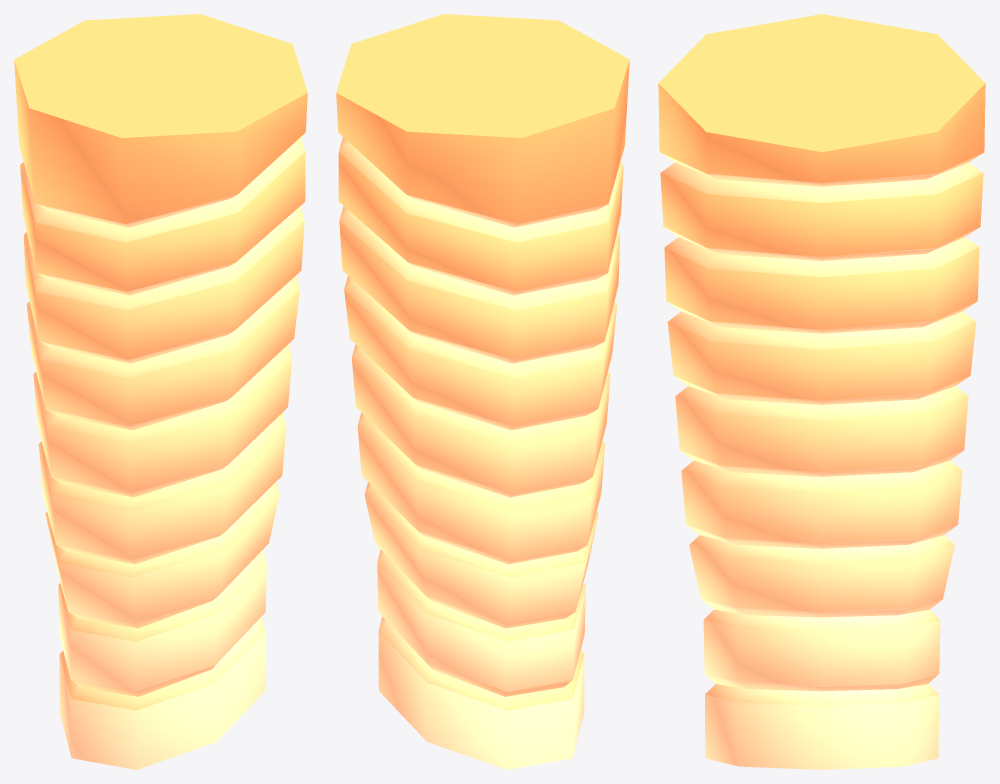
Rendered from wood_grip_106_004.glb.
3 views of the same model, side by side, from view 1: azimuth 30°, elevation 25°; view 2: azimuth 150°, elevation 25°; view 3: azimuth 270°, elevation 25° (orthographic). The views are drawn at different scales.
Parts seen in each view (by area): view 1: wood_grip_106.004; view 2: wood_grip_106.004; view 3: wood_grip_106.004.
Boxes of the visible parts, bbox=[...] form: wood_grip_106.004: bbox=[14, 14, 307, 769]; wood_grip_106.004: bbox=[336, 14, 629, 769]; wood_grip_106.004: bbox=[658, 14, 985, 769].
Size of the model in its own units: 1.51 by 3.61 by 1.51.
1 material, 1 textured.
